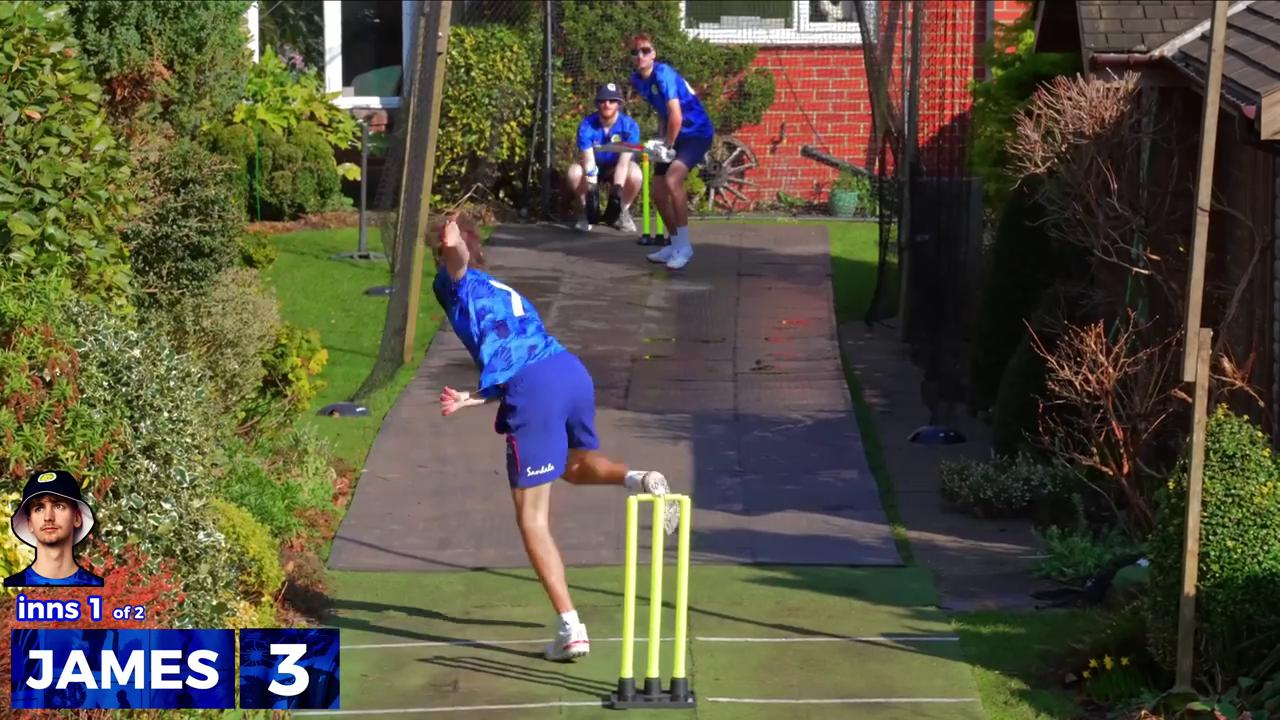ball: (585, 162, 600, 177)
